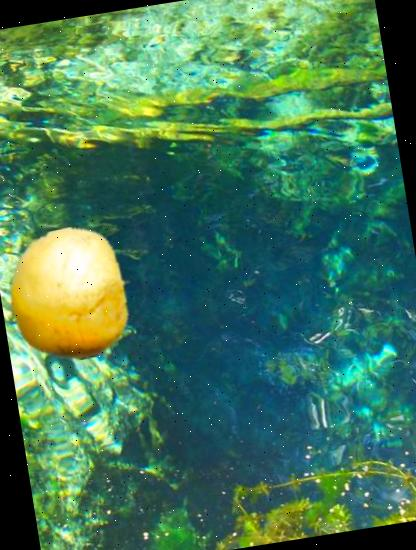Apple: (0, 219, 145, 370)
